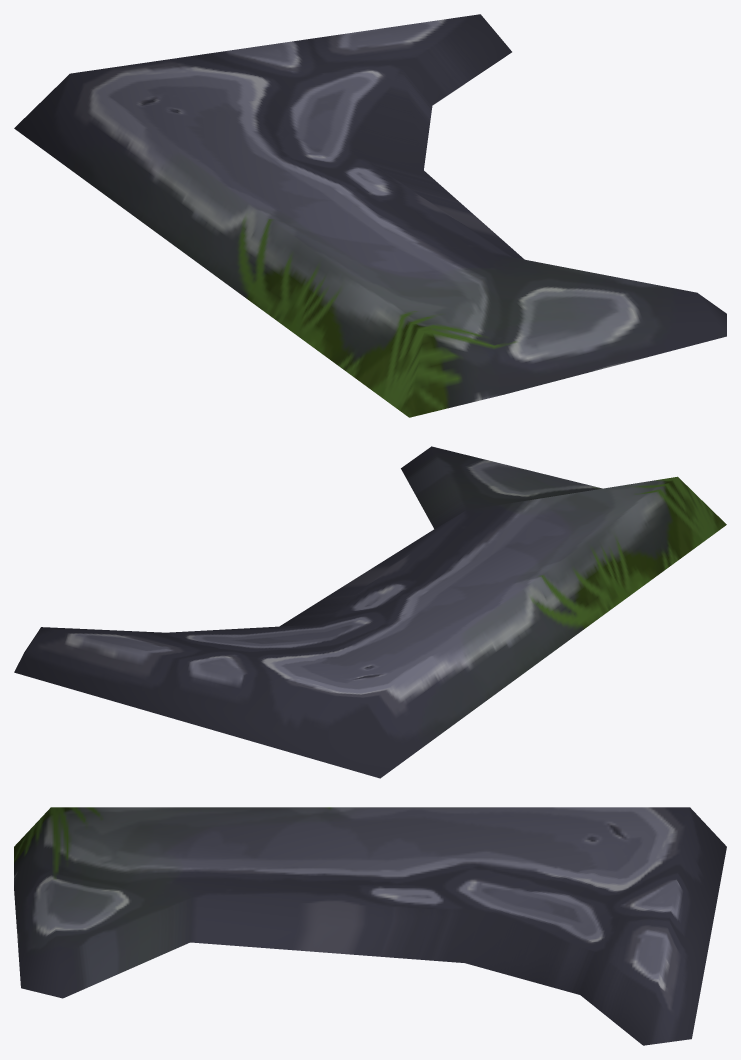
The model's file is MOD_Floor_01_O_singlestone_broken_4.fbx.
The picture shows the model from 3 angles, top to bottom: view 1: azimuth 30°, elevation 25°; view 2: azimuth 150°, elevation 25°; view 3: azimuth 270°, elevation 25°; orthographic projection. The views are drawn at different scales.
Parts seen in each view (by area): view 1: MOD_Floor_01_O_singlestone_broken_4; view 2: MOD_Floor_01_O_singlestone_broken_4; view 3: MOD_Floor_01_O_singlestone_broken_4.
Part boxes in pixels (box(x1,y1,x2,y2)): MOD_Floor_01_O_singlestone_broken_4: box(14, 14, 726, 417); MOD_Floor_01_O_singlestone_broken_4: box(14, 446, 726, 778); MOD_Floor_01_O_singlestone_broken_4: box(14, 807, 726, 1045).
Bounding box in the file's own units: 66.02 × 8.53 × 100.
